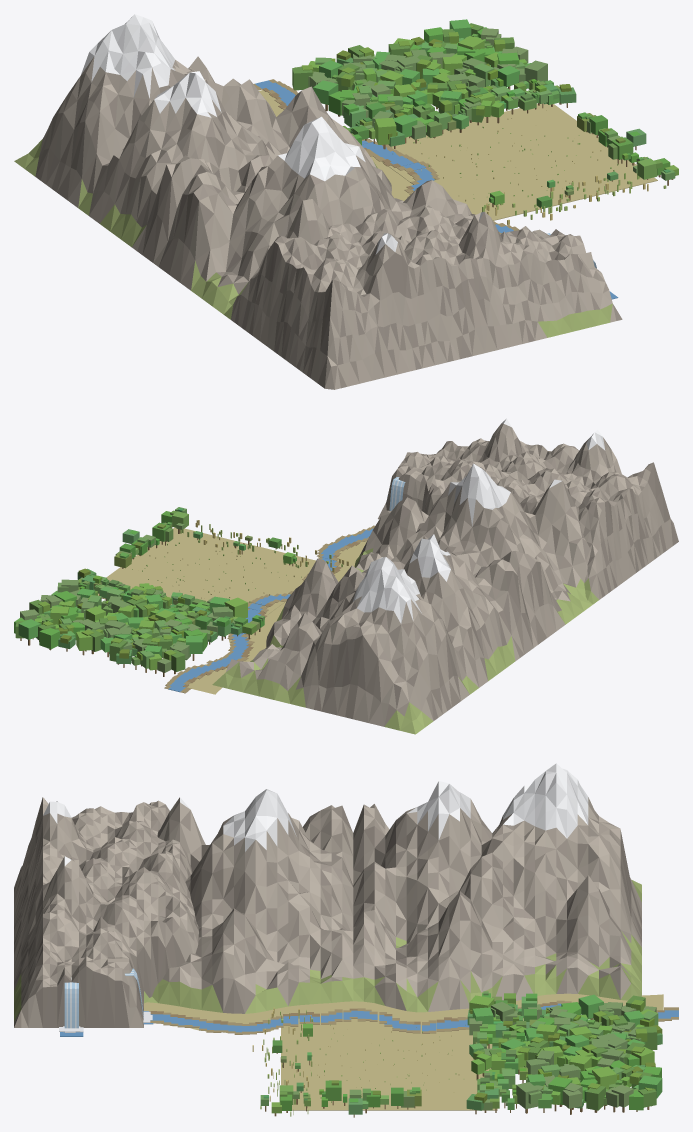
The model's file is city_map.glb.
3 renders of one model, top to bottom at view 1: azimuth 30°, elevation 25°; view 2: azimuth 150°, elevation 25°; view 3: azimuth 270°, elevation 25°, orthographic. The views are drawn at different scales.
Visible parts, largest first — view 1: Montana_Cascadas, Montana_Norte, Montana_Sur, Ground-col, Ground_West-col; view 2: Montana_Norte, Montana_Cascadas, Montana_Sur, Ground-col, Ground_West-col; view 3: Montana_Norte, Montana_Cascadas, Montana_Sur, Ground-col, Ground_West-col, Cascada_Gym.
Boxes of the visible parts, x1,y1,x2,y2 form: Montana_Cascadas: [223, 205, 622, 389]; Montana_Norte: [14, 14, 391, 266]; Montana_Sur: [158, 116, 471, 314]; Ground-col: [382, 103, 657, 220]; Ground_West-col: [259, 90, 498, 223]; Montana_Norte: [212, 534, 537, 734]; Montana_Cascadas: [378, 418, 678, 604]; Montana_Sur: [354, 463, 592, 644]; Ground-col: [98, 527, 315, 615]; Ground_West-col: [187, 534, 366, 694]; Montana_Norte: [353, 763, 641, 1012]; Montana_Cascadas: [14, 797, 198, 1027]; Montana_Sur: [147, 789, 353, 1013]; Ground-col: [281, 1018, 497, 1110]; Ground_West-col: [144, 993, 663, 1032]; Cascada_Gym: [59, 977, 83, 1032].
Size of what is drawn, in the model's own units: 155 by 49.12 by 184.
